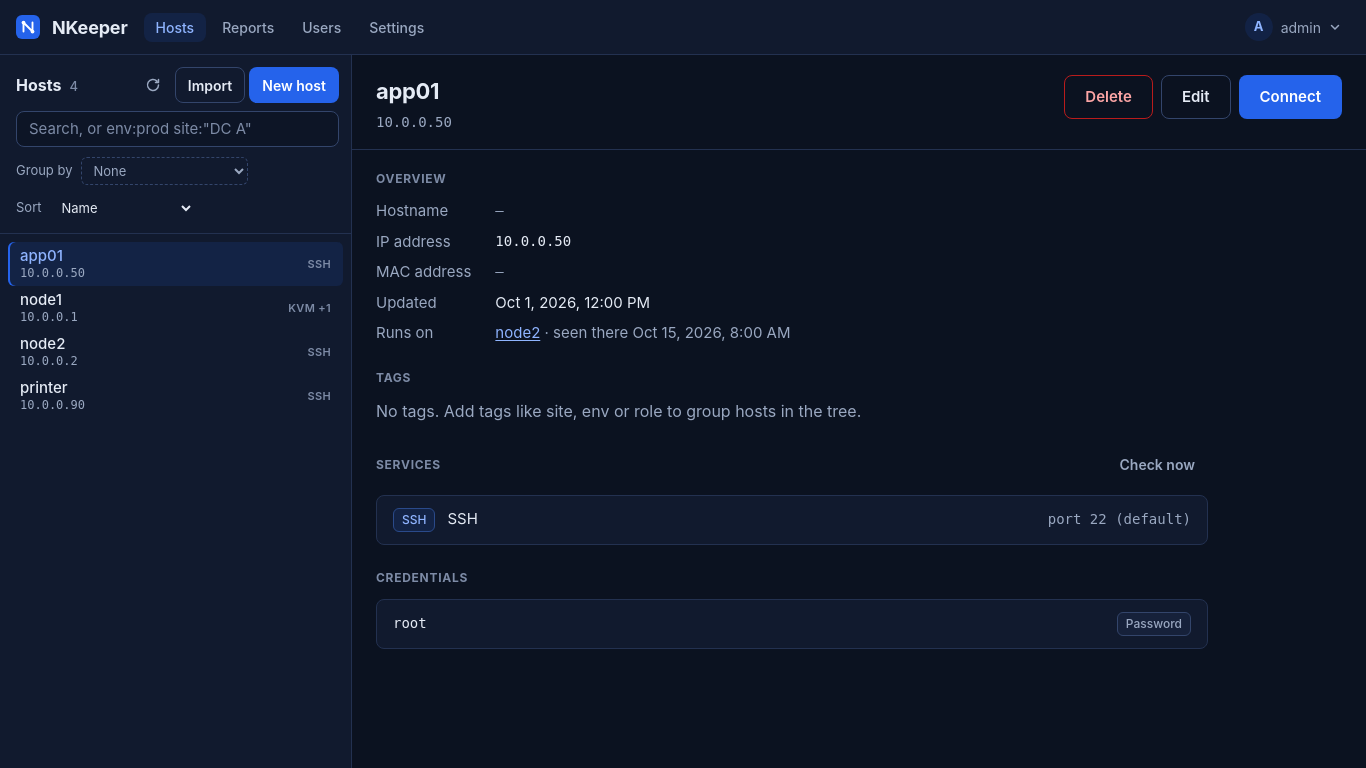
it: virtual machines › show where they run, and hypervisors list their VMs
Expected: the text "· seen there Oct 15, 2026, 8:00 AM" is shown, [540,323,790,342]
Click the button "node2": (518, 333) [495,322,540,344]
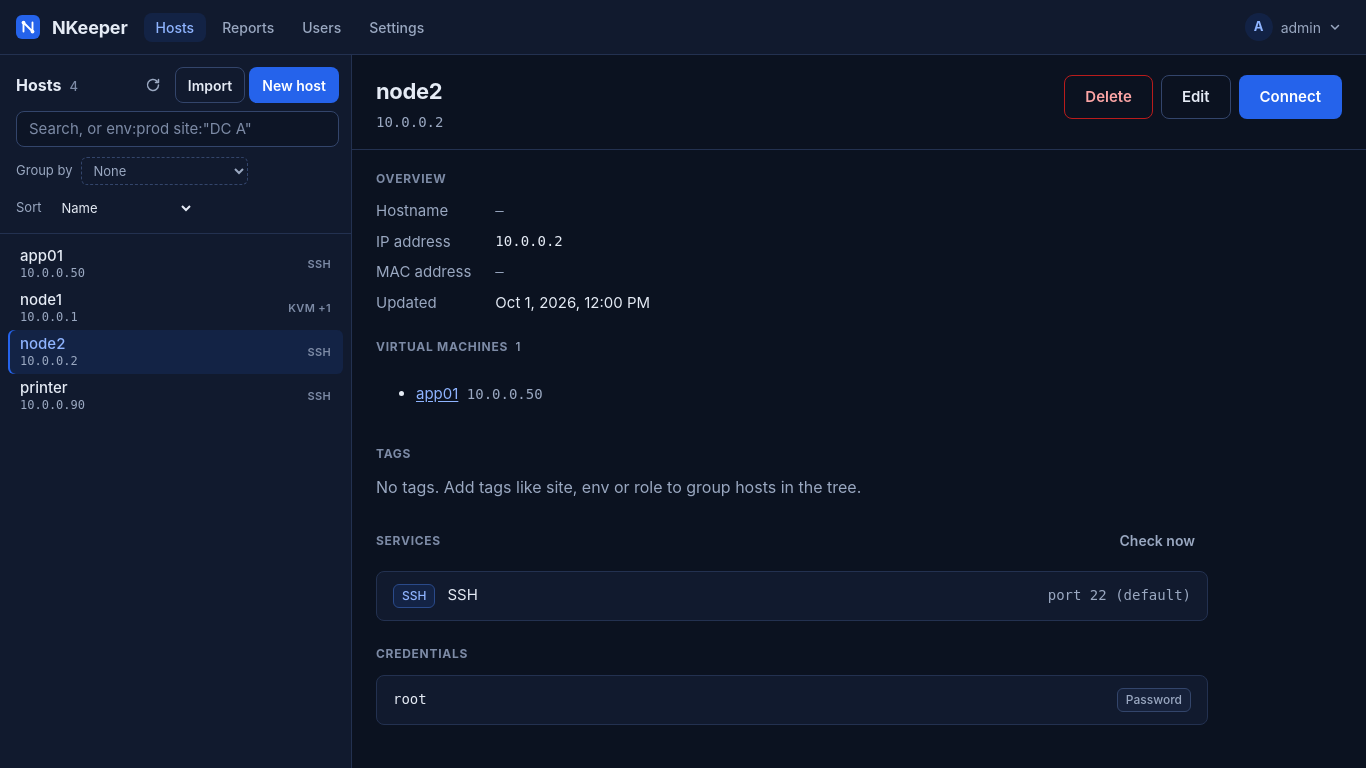
Expected: the button "app01" is shown, [416,383,458,406]
